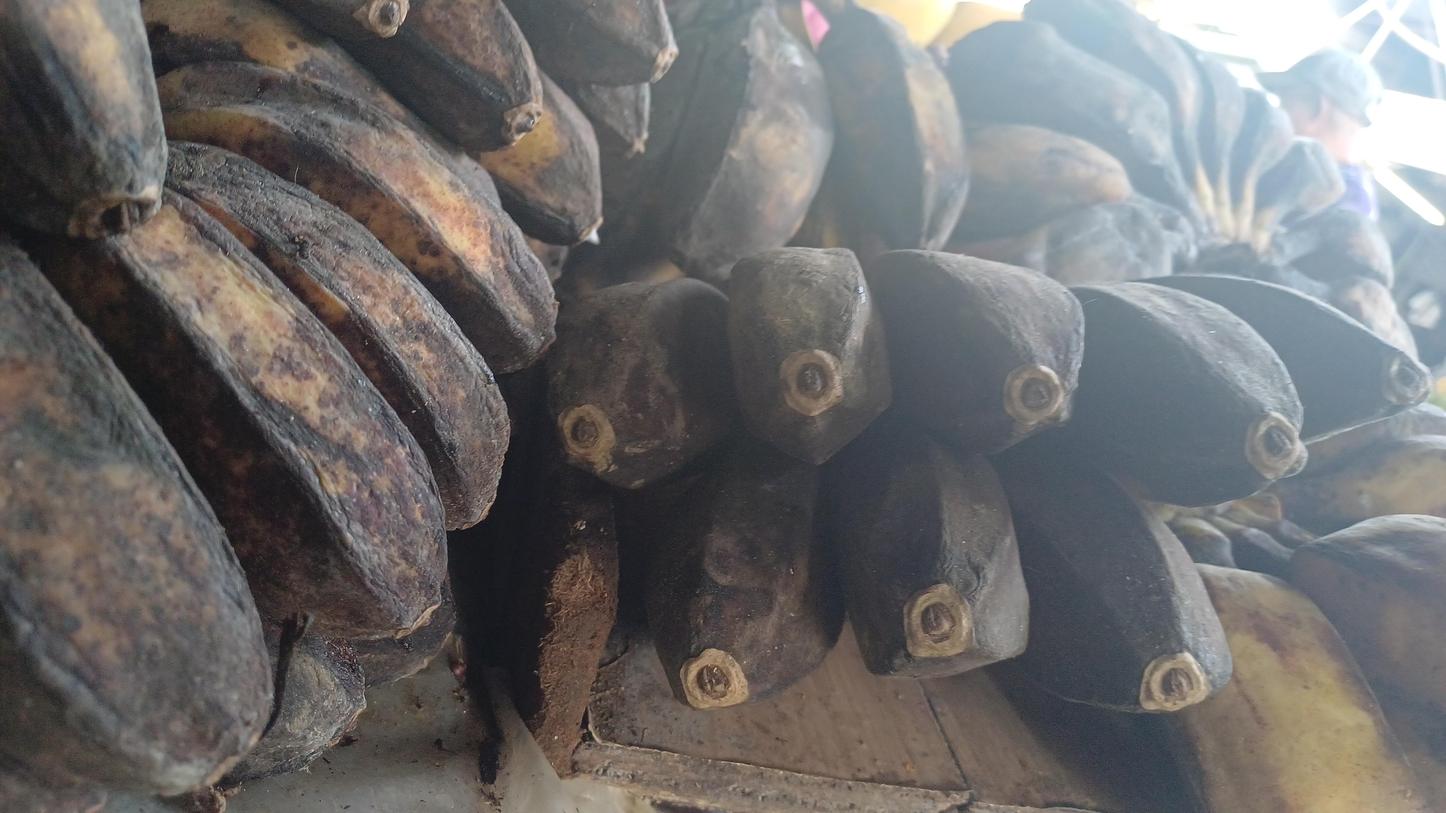overripe: (0, 0, 678, 813), (548, 248, 1430, 712), (944, 0, 1352, 246), (626, 0, 968, 289)
ripe: (1182, 515, 1446, 813)
